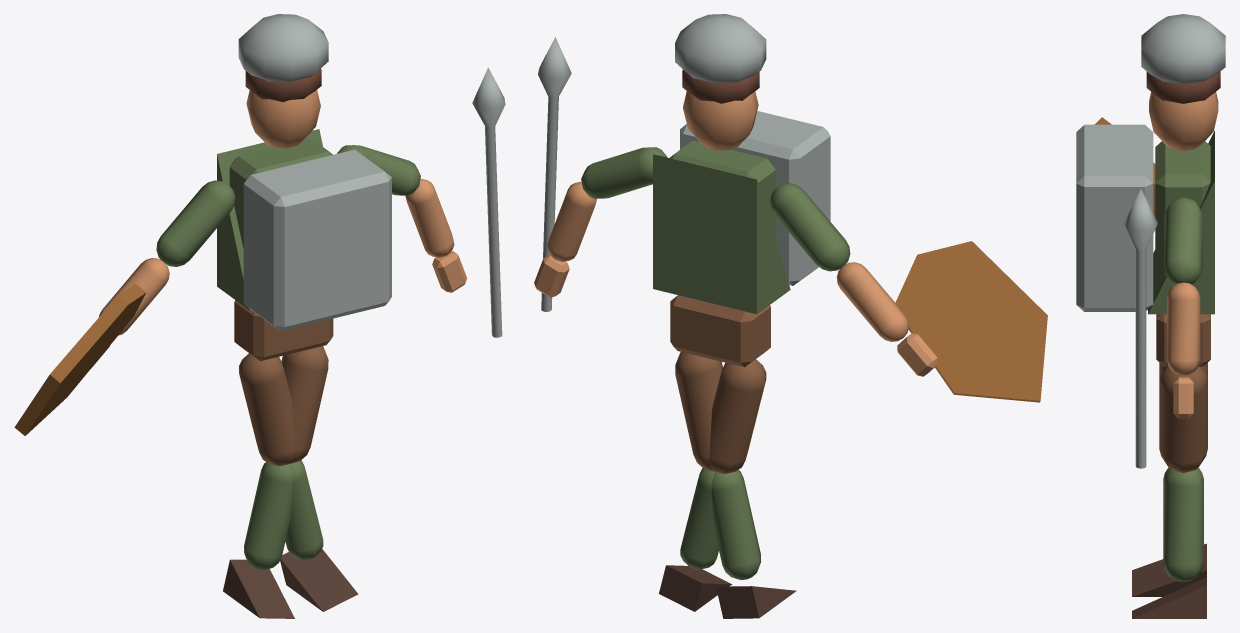
File: adventurer.rustic.glb
The picture shows the model from 3 angles, left to right: view 1: azimuth 30°, elevation 25°; view 2: azimuth 150°, elevation 25°; view 3: azimuth 270°, elevation 25°; orthographic projection.
Parts seen in each view (by area): view 1: accessory.body, accessory.head, accessory.off-hand, thigh.left, shin.right, upper-arm.left, accessory.main-hand, thigh.right, pelvis, head, tunic, foot.left (+8 smaller); view 2: accessory.off-hand, tunic, accessory.body, pelvis, accessory.head, thigh.left, shin.right, upper-arm.left, thigh.right, head, accessory.main-hand, forearm.left (+9 smaller); view 3: accessory.body, accessory.head, shin.left, thigh.right, accessory.main-hand, torso, upper-arm.right, head, forearm.right, tunic, foot.left, foot.right (+4 smaller).
Boxes of the visible parts, x1=… form: accessory.body: x1=243, y1=149, x2=391, y2=331; accessory.head: x1=238, y1=14, x2=328, y2=82; accessory.off-hand: x1=14, y1=283, x2=146, y2=435; thigh.left: x1=239, y1=353, x2=294, y2=466; shin.right: x1=244, y1=462, x2=292, y2=570; upper-arm.left: x1=156, y1=180, x2=235, y2=266; accessory.main-hand: x1=472, y1=67, x2=505, y2=337; thigh.right: x1=281, y1=346, x2=328, y2=463; pelvis: x1=234, y1=300, x2=333, y2=361; head: x1=246, y1=90, x2=320, y2=148; tunic: x1=217, y1=129, x2=322, y2=310; foot.left: x1=280, y1=549, x2=358, y2=611; accessory.off-hand: x1=895, y1=241, x2=1047, y2=402; tunic: x1=653, y1=154, x2=790, y2=314; accessory.body: x1=680, y1=111, x2=830, y2=285; pelvis: x1=670, y1=295, x2=770, y2=367; accessory.head: x1=675, y1=14, x2=766, y2=83; thigh.left: x1=709, y1=359, x2=766, y2=473; shin.right: x1=711, y1=470, x2=760, y2=580; upper-arm.left: x1=770, y1=183, x2=850, y2=271; thigh.right: x1=675, y1=352, x2=722, y2=471; head: x1=683, y1=91, x2=758, y2=150; accessory.main-hand: x1=538, y1=37, x2=571, y2=311; forearm.left: x1=836, y1=262, x2=909, y2=341; accessory.body: x1=1076, y1=124, x2=1153, y2=311; accessory.head: x1=1141, y1=14, x2=1225, y2=84; shin.left: x1=1163, y1=468, x2=1203, y2=581; thigh.right: x1=1159, y1=367, x2=1207, y2=472; accessory.main-hand: x1=1124, y1=189, x2=1157, y2=468; torso: x1=1155, y1=141, x2=1210, y2=290; upper-arm.right: x1=1164, y1=197, x2=1202, y2=284; head: x1=1149, y1=92, x2=1218, y2=150; forearm.right: x1=1167, y1=282, x2=1200, y2=375; tunic: x1=1148, y1=130, x2=1214, y2=314; foot.left: x1=1132, y1=577, x2=1206, y2=618; foot.right: x1=1132, y1=543, x2=1206, y2=596.
Bounding box in the file's own units: 2.83 × 3.18 × 0.738.
